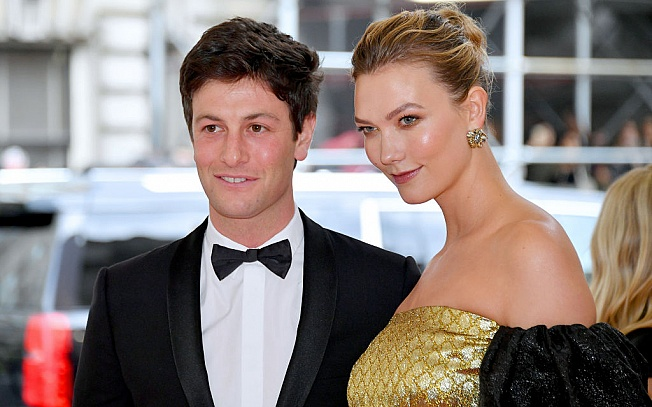bow: (208, 236, 299, 285)
